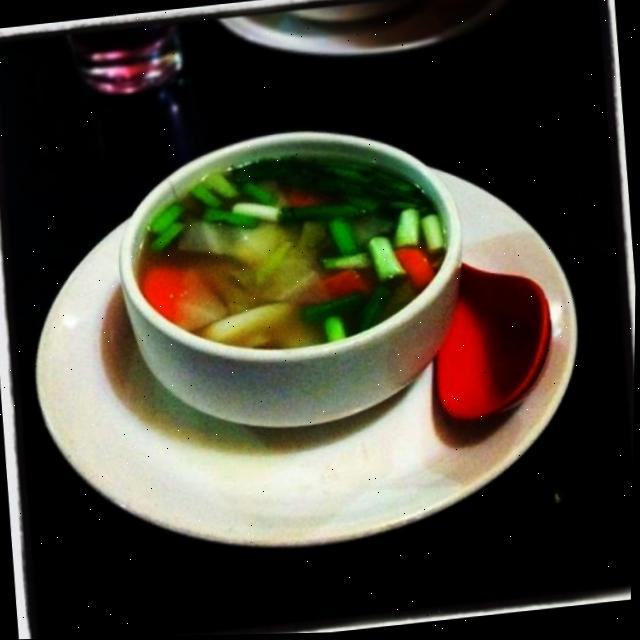汤锅炖物: (111, 120, 473, 410)
